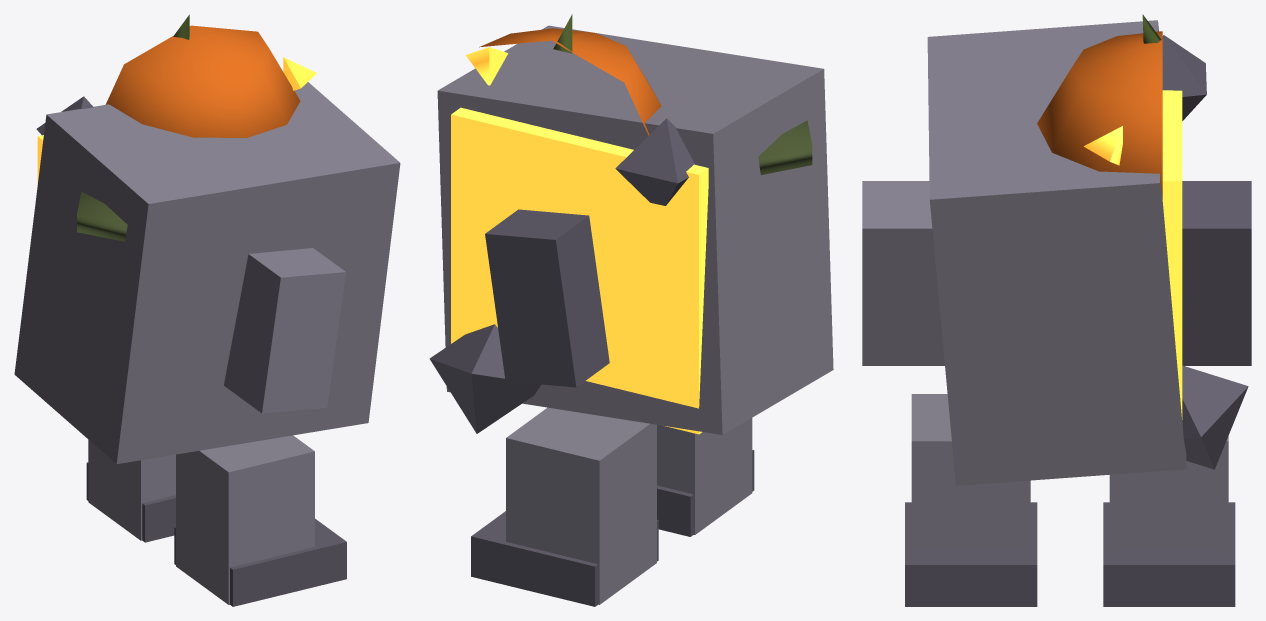
The model's file is enemy_shard.glb.
The picture shows the model from 3 angles, left to right: view 1: azimuth 30°, elevation 25°; view 2: azimuth 150°, elevation 25°; view 3: azimuth 270°, elevation 25°; orthographic projection. The views are drawn at different scales.
Visible parts, largest first — view 1: body, leg_l_mesh, arm_l_mesh, head, foot_l, leg_r_mesh, moss, foot_r, eye_l; view 2: body, break_face, leg_r_mesh, arm_r_mesh, leg_l_mesh, foot_r, chunk_0, head, chunk_1, moss, foot_l, eye_l; view 3: body, arm_l_mesh, head, arm_r_mesh, leg_l_mesh, leg_r_mesh, foot_l, foot_r, break_face, chunk_0, chunk_1, eye_l.
Boxes of the visible parts, box(x1,y1,x2,y2) form: body: box(14, 82, 400, 463); leg_l_mesh: box(176, 435, 314, 604); arm_l_mesh: box(224, 248, 345, 413); head: box(106, 25, 300, 137); foot_l: box(174, 518, 346, 606); leg_r_mesh: box(88, 440, 175, 540); moss: box(77, 191, 127, 241); foot_r: box(86, 462, 175, 542); eye_l: box(283, 57, 316, 90); body: box(437, 25, 833, 434); break_face: box(451, 107, 708, 434); leg_r_mesh: box(506, 407, 656, 604); arm_r_mesh: box(485, 209, 609, 387); leg_l_mesh: box(657, 418, 752, 534); foot_r: box(471, 511, 658, 606); chunk_0: box(429, 324, 540, 433); head: box(479, 28, 661, 135); chunk_1: box(615, 118, 694, 205); moss: box(758, 120, 812, 175); foot_l: box(657, 450, 754, 536); eye_l: box(465, 47, 508, 85); body: box(927, 20, 1186, 485); arm_l_mesh: box(862, 181, 944, 365); head: box(1037, 31, 1162, 198); arm_r_mesh: box(1182, 181, 1251, 365); leg_l_mesh: box(911, 394, 1030, 548); leg_r_mesh: box(1109, 436, 1228, 548); foot_l: box(905, 502, 1037, 606); foot_r: box(1103, 502, 1235, 606); break_face: box(1162, 90, 1182, 419); chunk_0: box(1182, 365, 1248, 469); chunk_1: box(1162, 35, 1206, 120); eye_l: box(1084, 126, 1122, 165).
Bounding box in the file's own units: 0.1117 × 0.1886 × 0.118.
